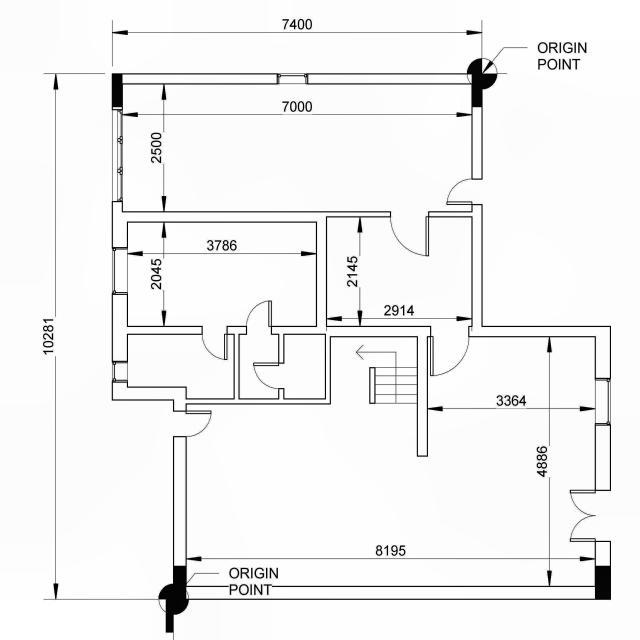Column: (595, 566, 611, 600), (173, 565, 186, 602), (112, 74, 124, 108), (471, 72, 483, 106)
Door: (428, 327, 471, 378), (390, 210, 430, 260), (172, 410, 214, 438), (446, 178, 484, 206), (246, 298, 272, 336), (252, 362, 286, 390), (202, 326, 228, 362)
Double-Door: (568, 490, 612, 542)
Staircase: (330, 336, 418, 408)
Window: (112, 106, 123, 203), (593, 378, 611, 426), (112, 247, 128, 296), (276, 72, 309, 86), (112, 360, 128, 383)
